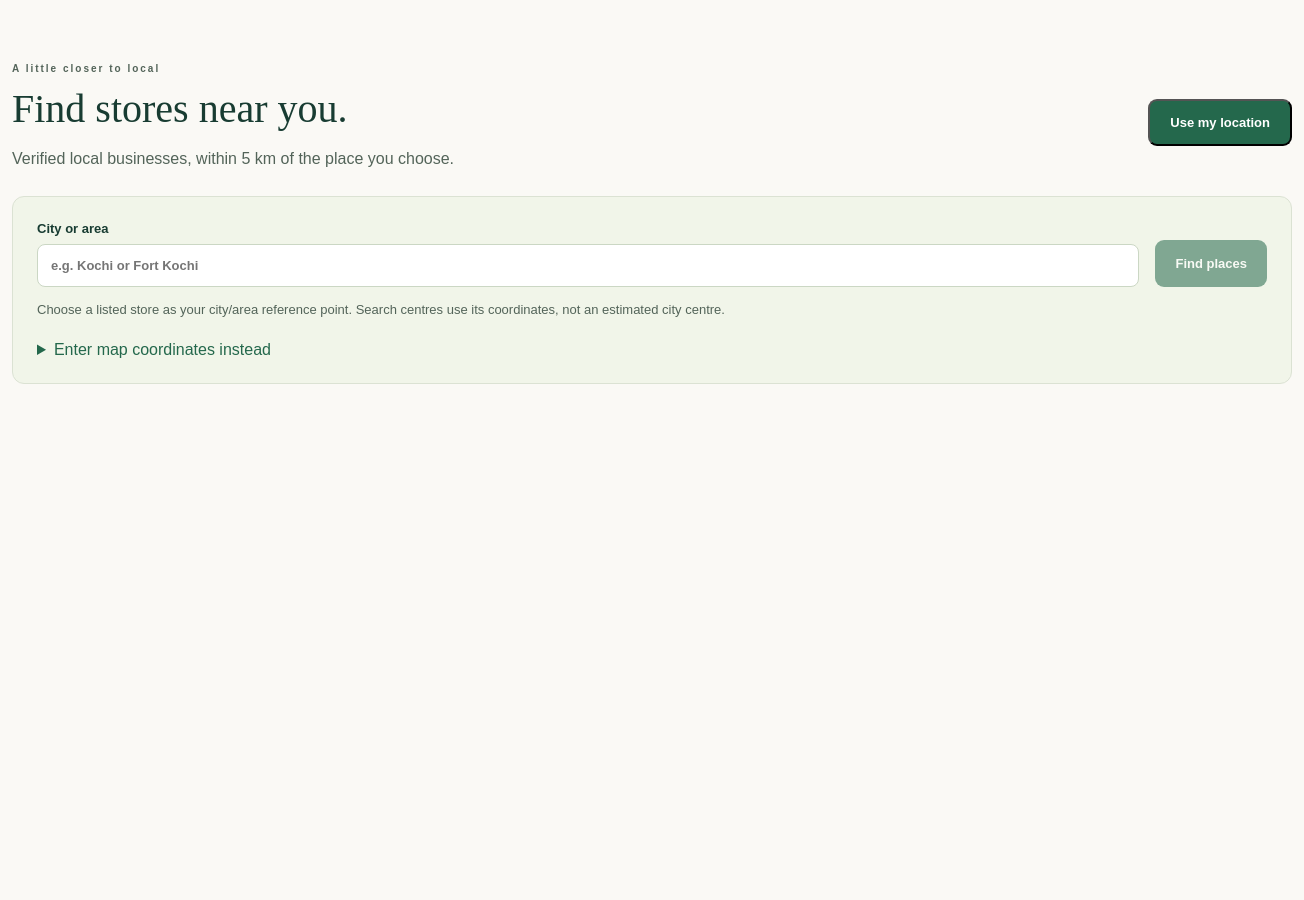
Test: GPS denial leaves manual selection available
Click the button "Use my location": (1220, 122) [1148,99,1292,146]
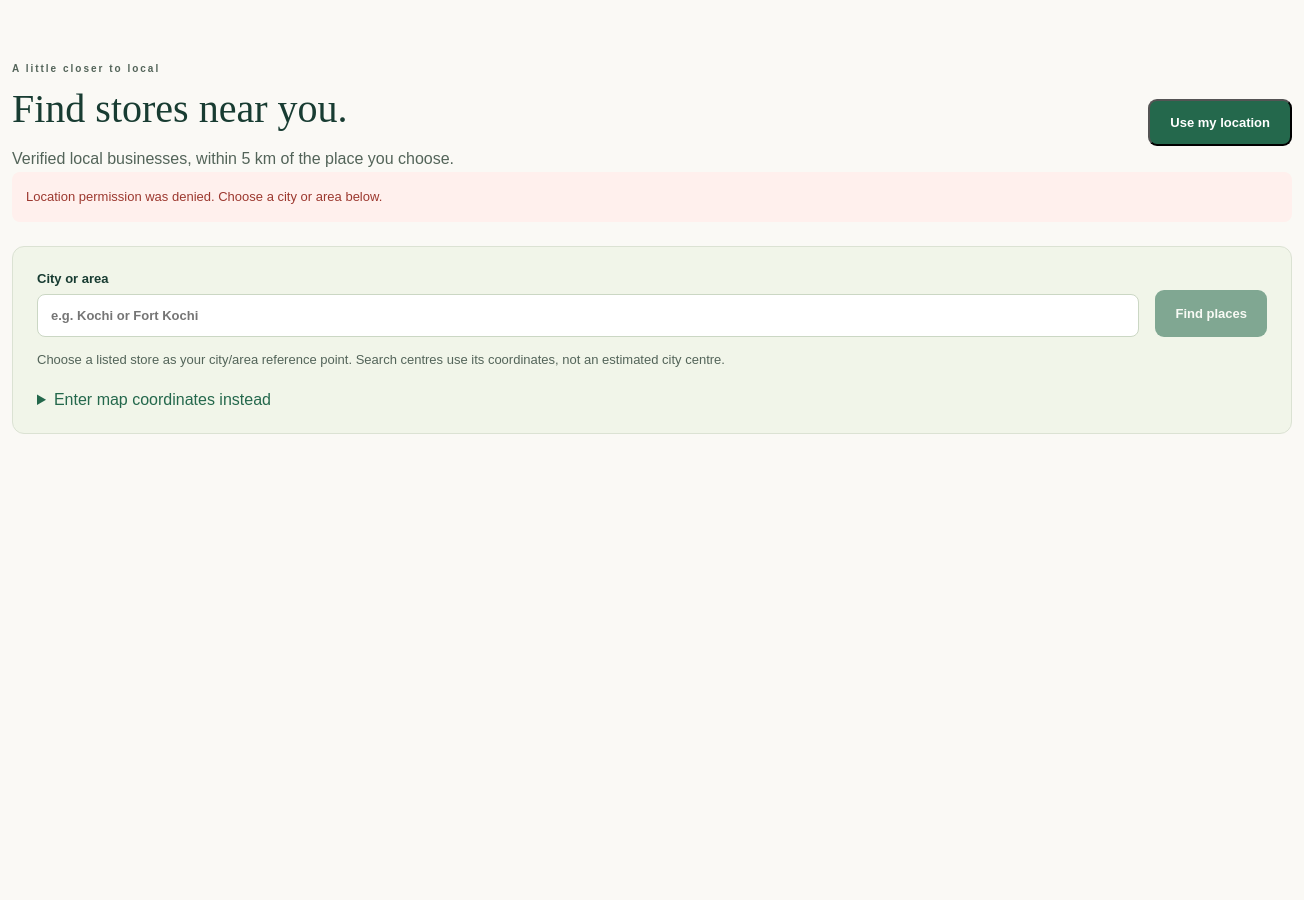
Expected: the message shows "permission was denied", [26,189,382,204]
In the field labelled "City or area": (588, 316) [37,294,1140,337], type "Kochi"
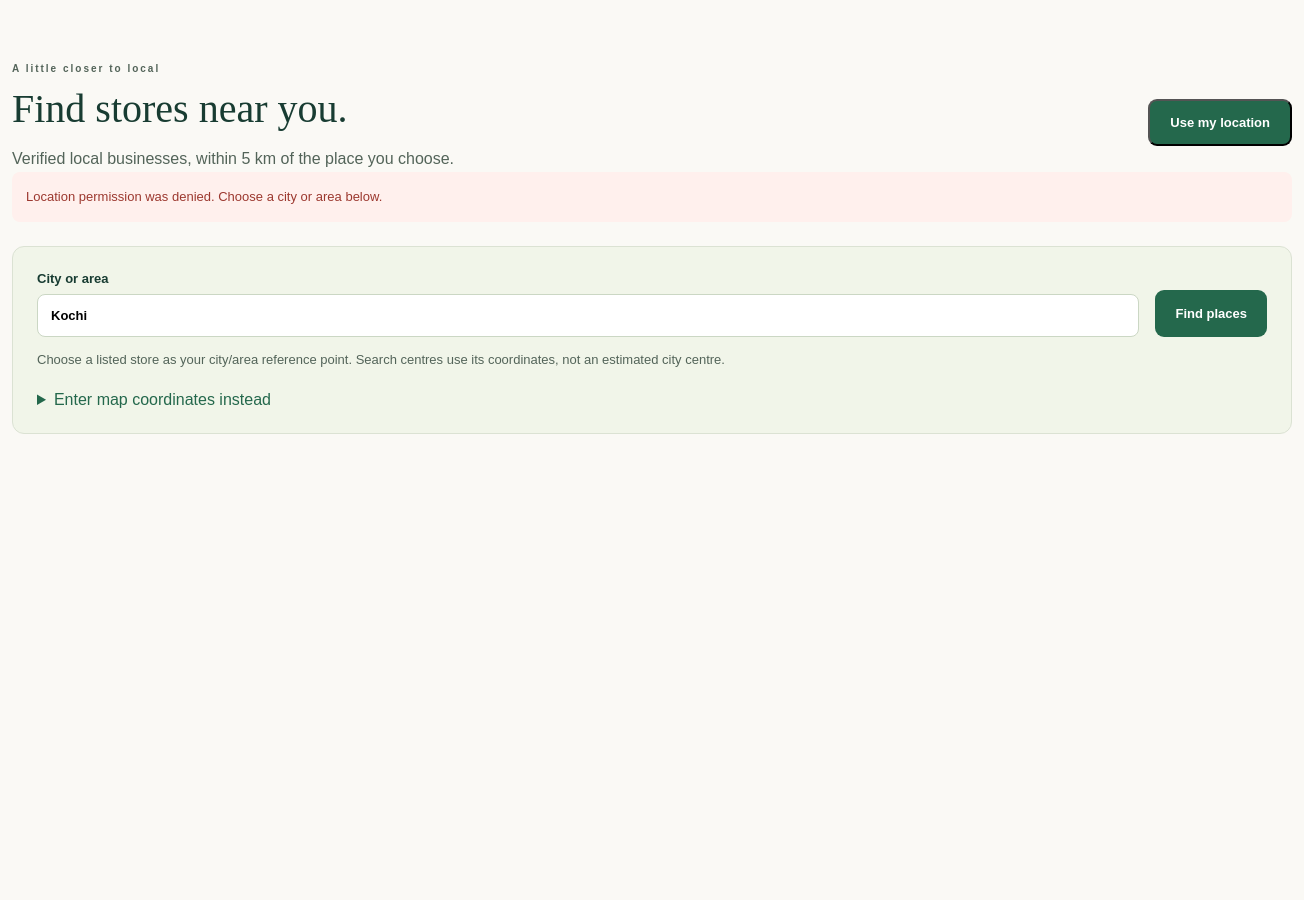
Click the button "Find places": (1211, 314) [1156,290,1267,337]
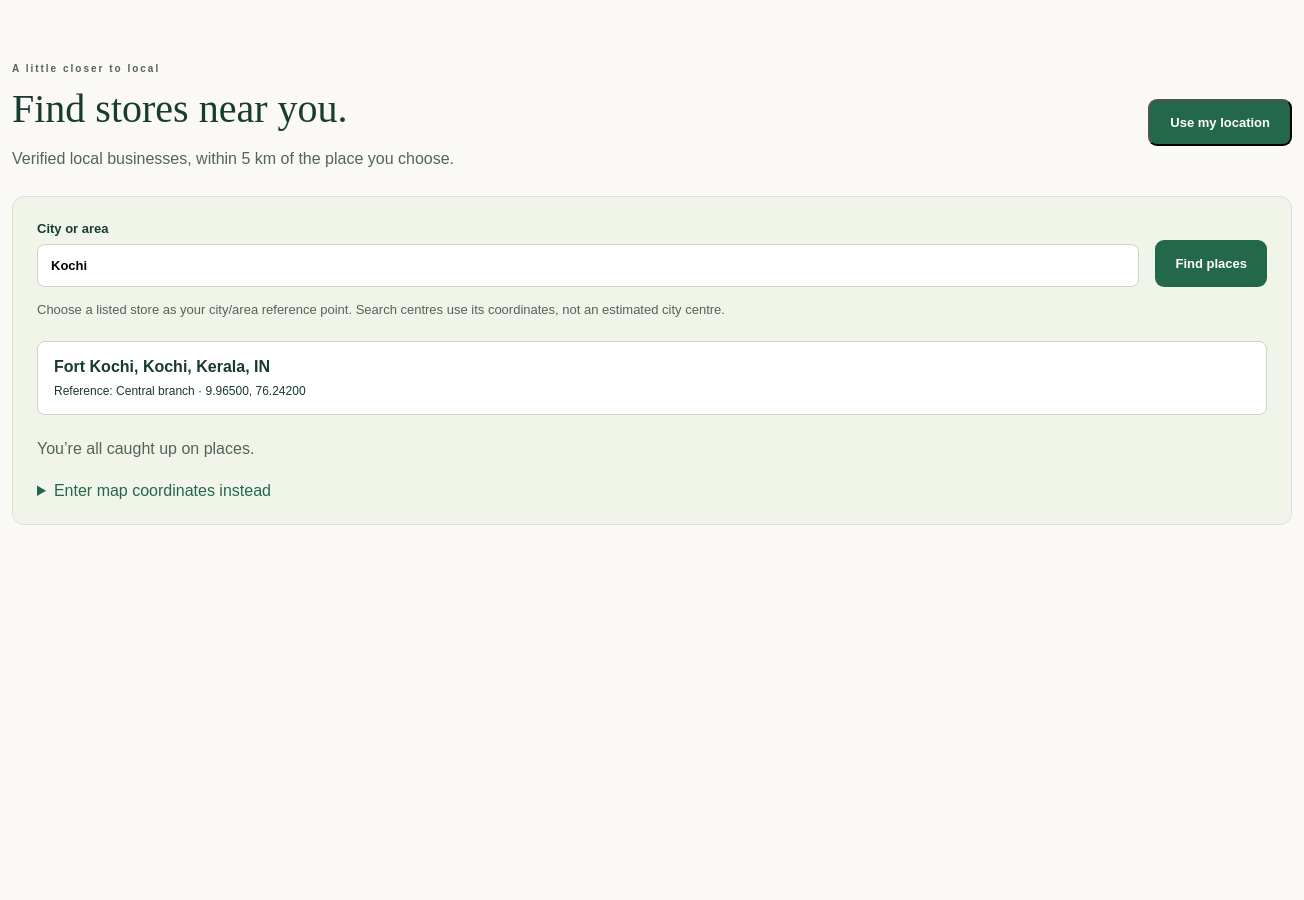
Click the button "Fort Kochi, Kochi": (162, 367) [37,341,1267,415]
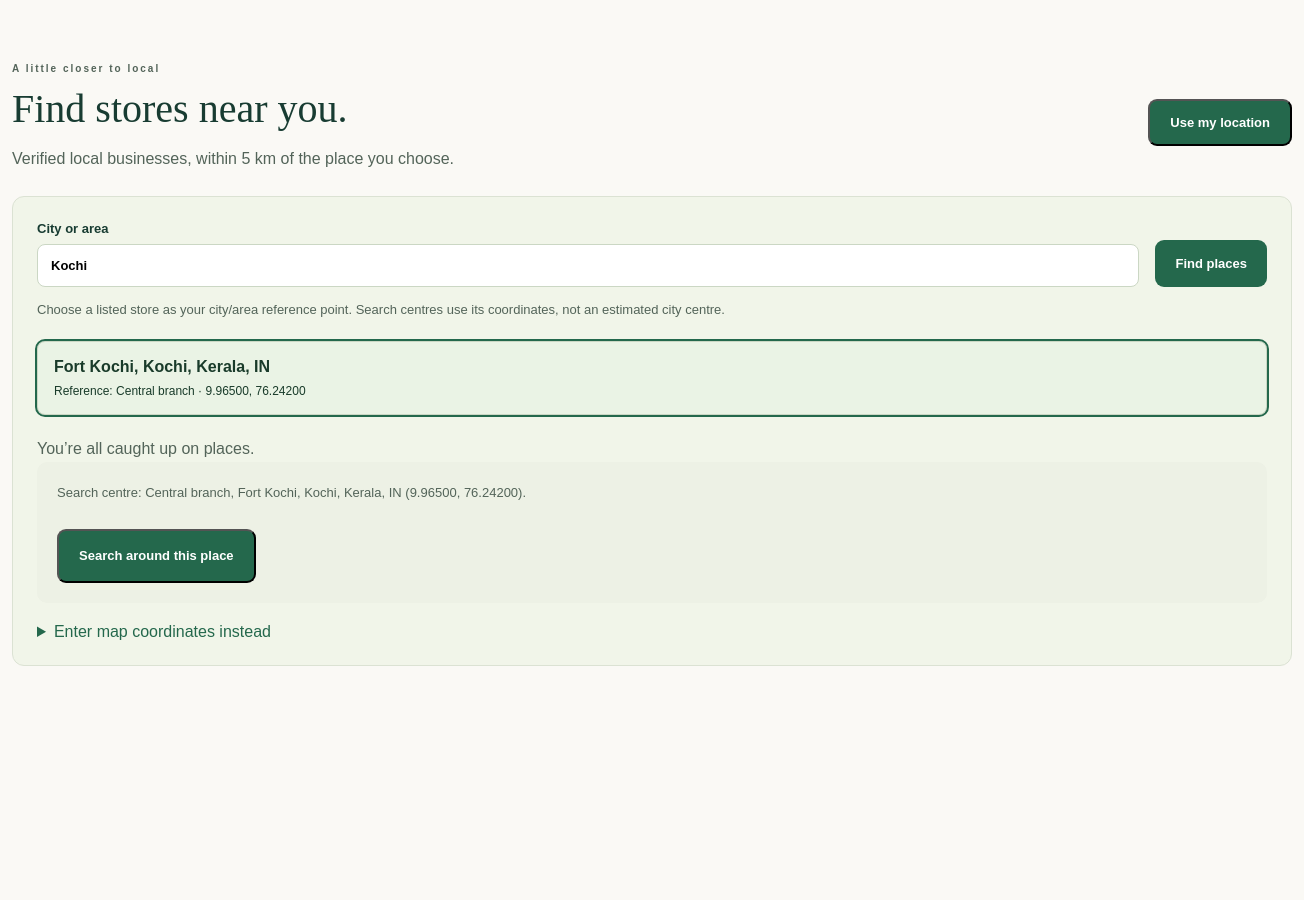
Click the button "Search around this place": (156, 556) [57,529,256,583]
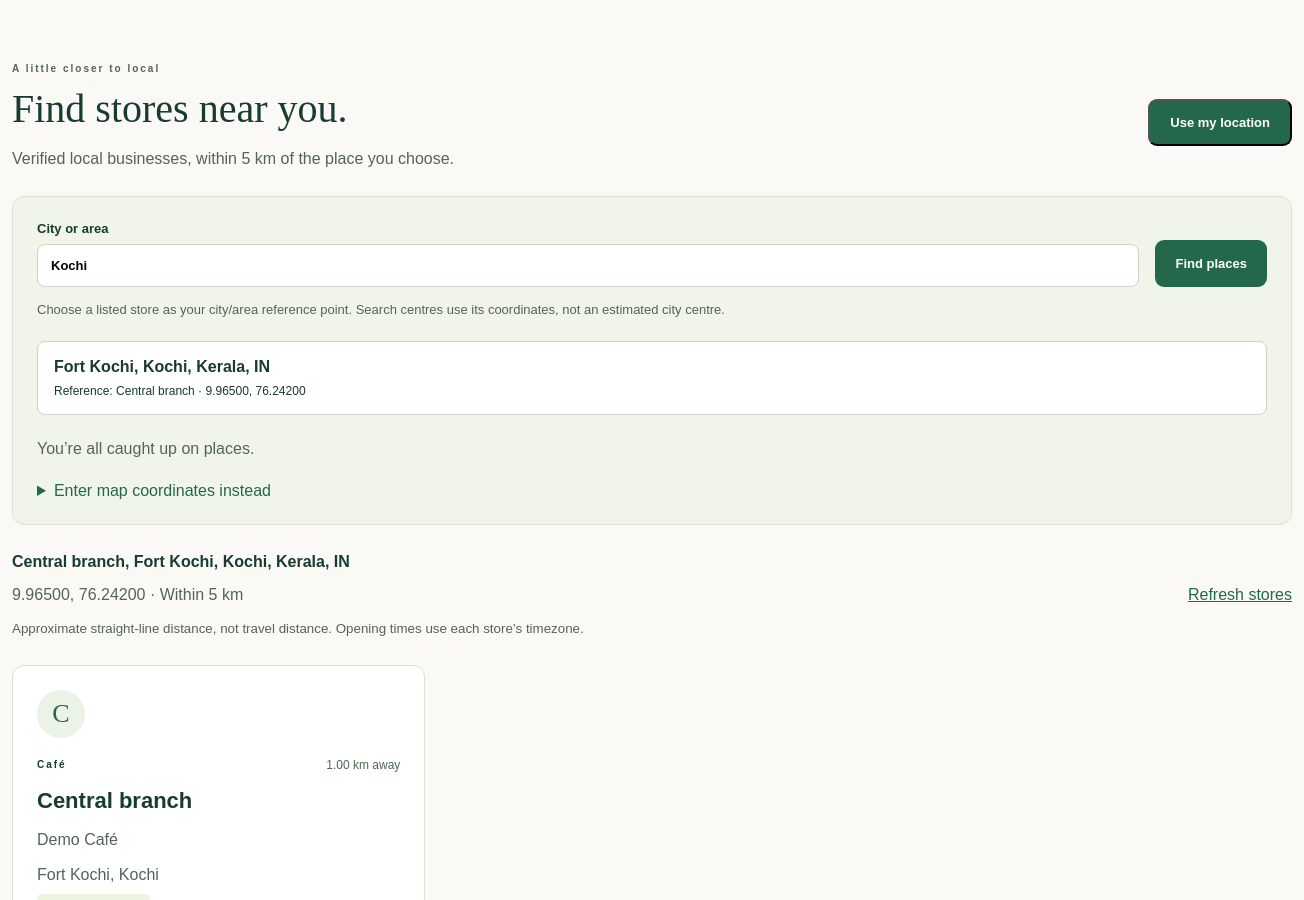
Expected: the text "1.00 km away" is shown, [326,758,400,772]
